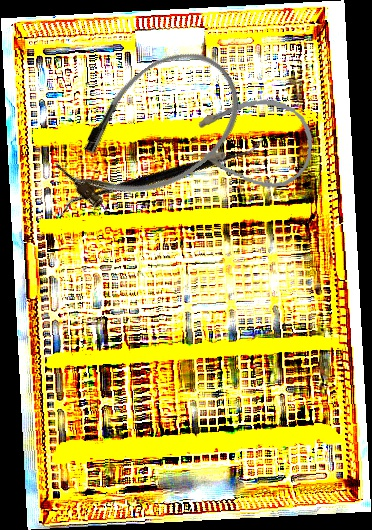Cannula: (39, 30, 264, 235), (184, 91, 317, 192)
Spatula Surgical: (57, 69, 266, 287)
